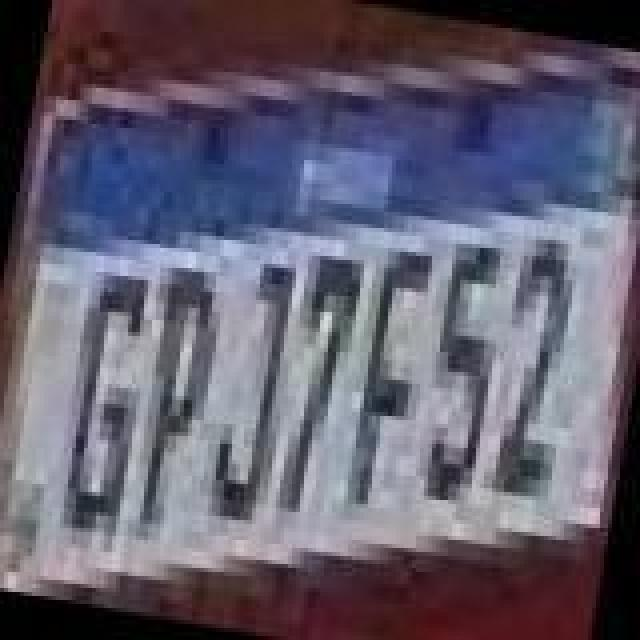2: (478, 230, 594, 506)
5: (406, 234, 522, 518)
7: (266, 248, 366, 528)
F: (330, 234, 438, 518)
G: (42, 262, 166, 546)
J: (194, 246, 310, 530)
P: (120, 262, 232, 538)
